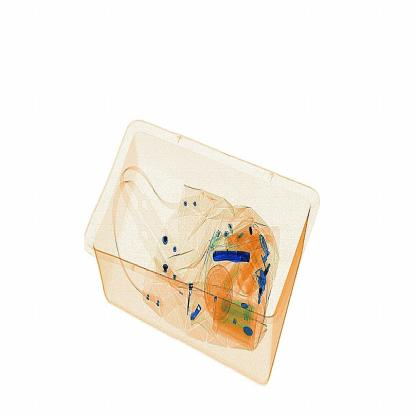knife: (207, 243, 262, 267)
